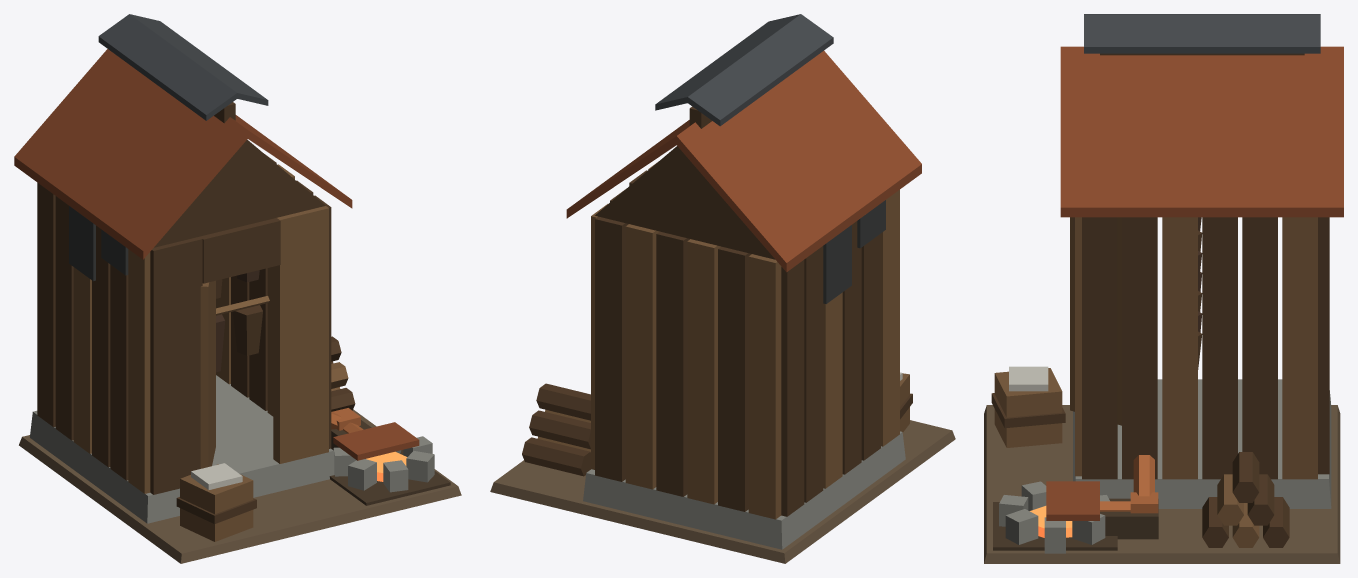
The model's file is smokehouse_l1.glb.
3 renders of one model, left to right at view 1: azimuth 30°, elevation 25°; view 2: azimuth 150°, elevation 25°; view 3: azimuth 270°, elevation 25°, orthographic. The views are drawn at different scales.
Visible parts, largest first — view 1: smokehouse_l1_mesh; view 2: smokehouse_l1_mesh; view 3: smokehouse_l1_mesh.
Part boxes in pixels (x1,y1,x2,y2): smokehouse_l1_mesh: [14, 14, 461, 563]; smokehouse_l1_mesh: [490, 14, 955, 563]; smokehouse_l1_mesh: [984, 14, 1343, 563].
Bounding box in the file's own units: 2.02 × 2.81 × 2.02.
